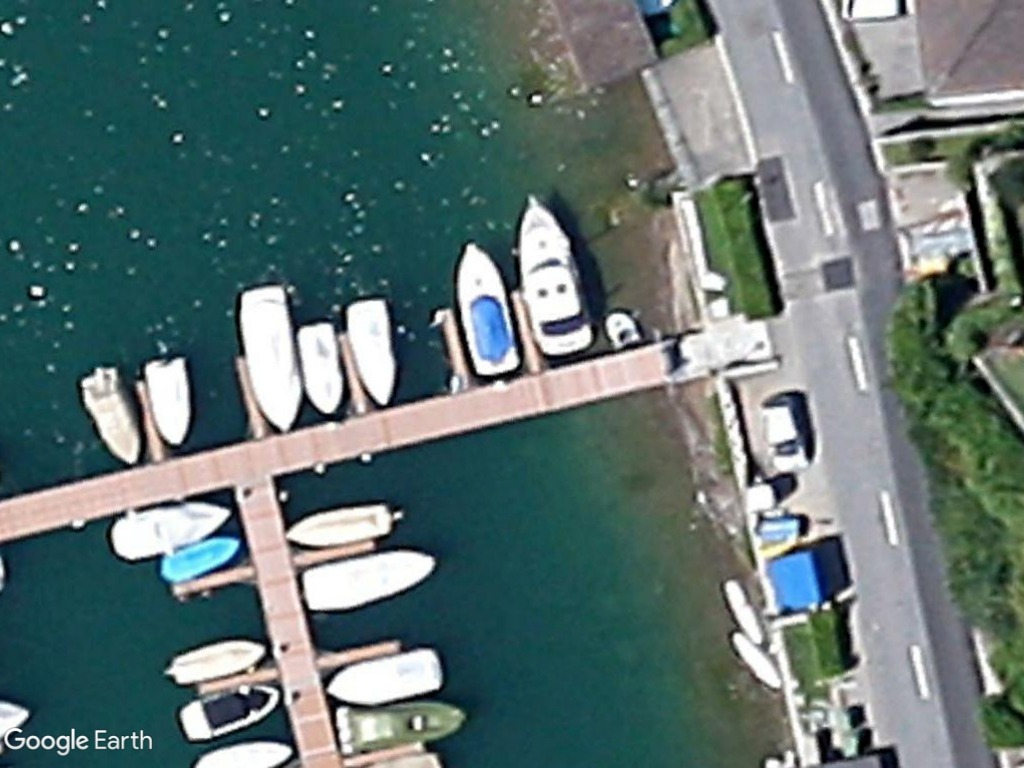boat: (517, 189, 596, 357), (230, 276, 301, 436), (297, 544, 445, 615), (451, 233, 520, 379), (335, 688, 468, 759), (107, 494, 232, 563), (321, 644, 449, 705), (78, 363, 146, 468), (176, 679, 281, 743), (345, 288, 397, 411), (163, 634, 271, 692), (282, 497, 398, 549), (143, 352, 195, 453), (158, 533, 248, 588), (297, 320, 345, 420)
car: (755, 391, 813, 481)
